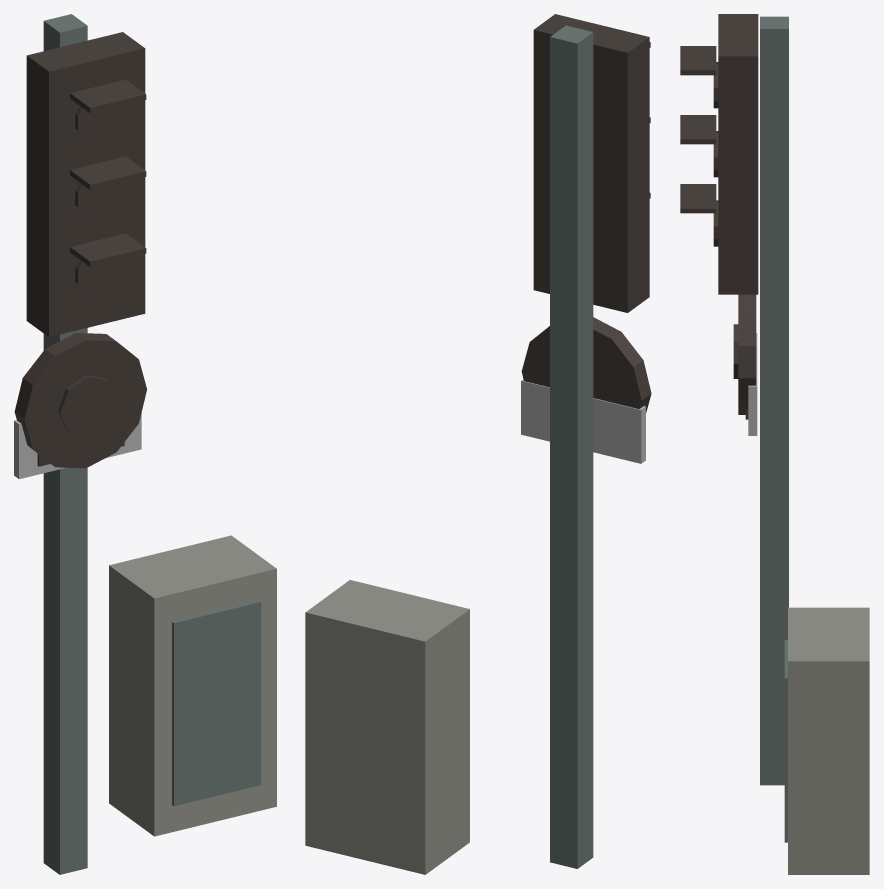
The model's file is SM_senal_via_v1_LOD0.fbx.
3 renders of one model, left to right at view 1: azimuth 30°, elevation 25°; view 2: azimuth 150°, elevation 25°; view 3: azimuth 270°, elevation 25°, orthographic. The views are drawn at different scales.
Visible parts, largest first — view 1: SM_bloques.senal_via_v1_LOD0; view 2: SM_bloques.senal_via_v1_LOD0; view 3: SM_bloques.senal_via_v1_LOD0.
Part boxes in pixels (bbox=[...]): SM_bloques.senal_via_v1_LOD0: bbox=[14, 14, 276, 874]; SM_bloques.senal_via_v1_LOD0: bbox=[305, 14, 651, 874]; SM_bloques.senal_via_v1_LOD0: bbox=[680, 14, 869, 874].
Bounding box in the file's own units: 1.6 × 4.6 × 1.04.
